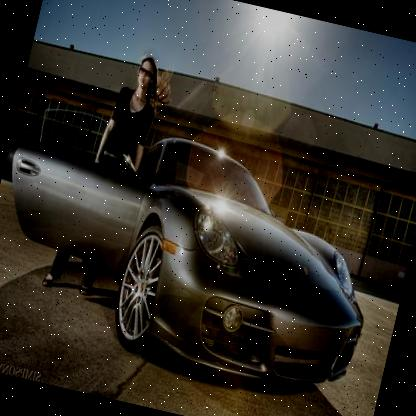car: (0, 98, 400, 405)
person: (24, 38, 182, 314)
